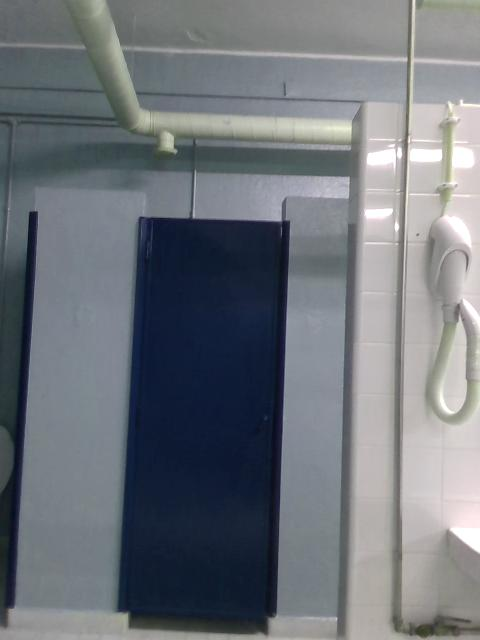closed_door: (118, 215, 288, 615)
